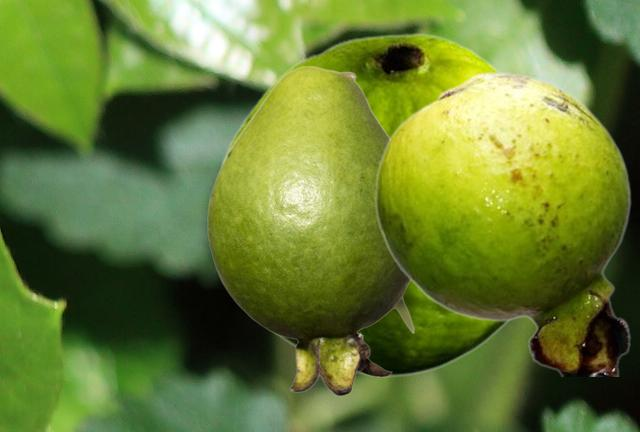guava: (215, 33, 512, 376), (374, 71, 631, 375), (207, 65, 416, 395)
